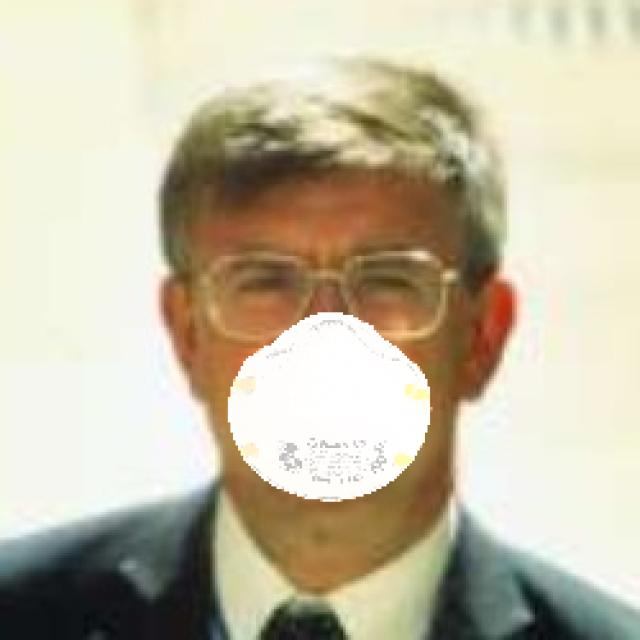mask: (210, 318, 431, 521)
